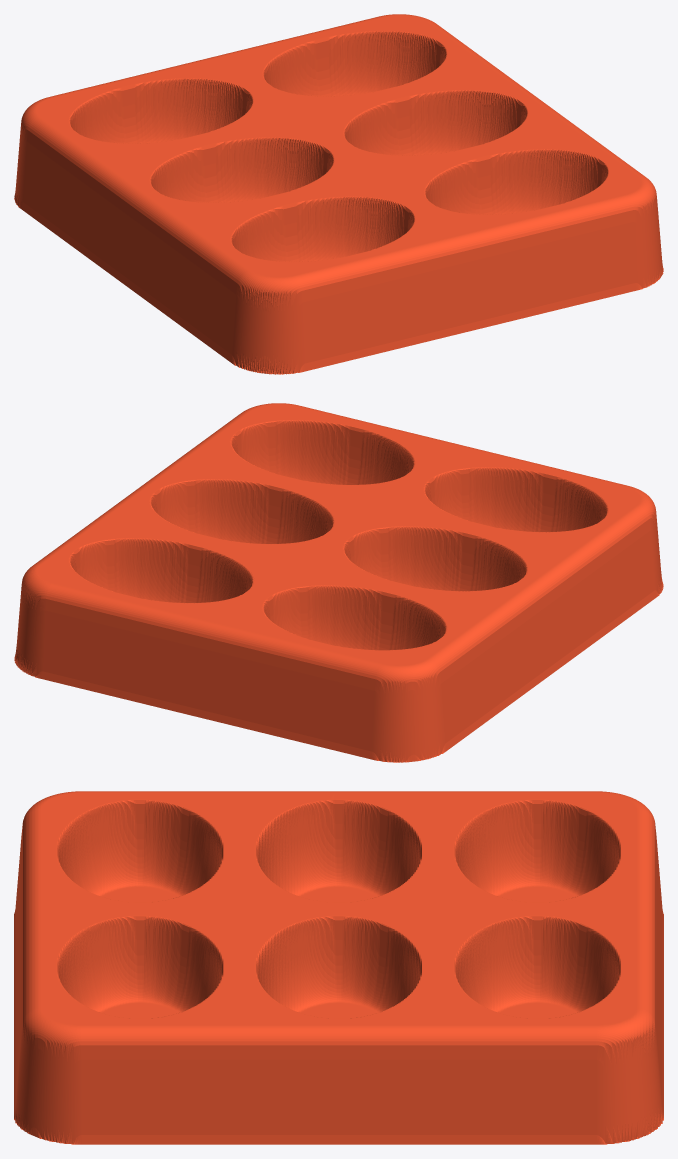
File: mold.glb
The picture shows the model from 3 angles, top to bottom: view 1: azimuth 30°, elevation 25°; view 2: azimuth 150°, elevation 25°; view 3: azimuth 270°, elevation 25°; orthographic projection. The views are drawn at different scales.
Parts seen in each view (by area): view 1: geometry_0; view 2: geometry_0; view 3: geometry_0.
Boxes of the visible parts, box(x1,y1,x2,y2) form: geometry_0: box(14, 14, 663, 374); geometry_0: box(14, 403, 663, 762); geometry_0: box(14, 791, 663, 1144).
Size of the model in its own units: 0.0808 by 0.0159 by 0.087.
